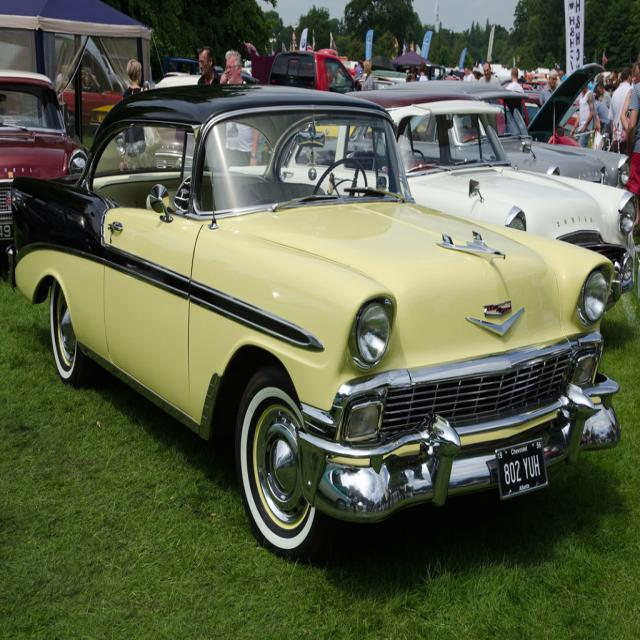car: (10, 81, 617, 561)
